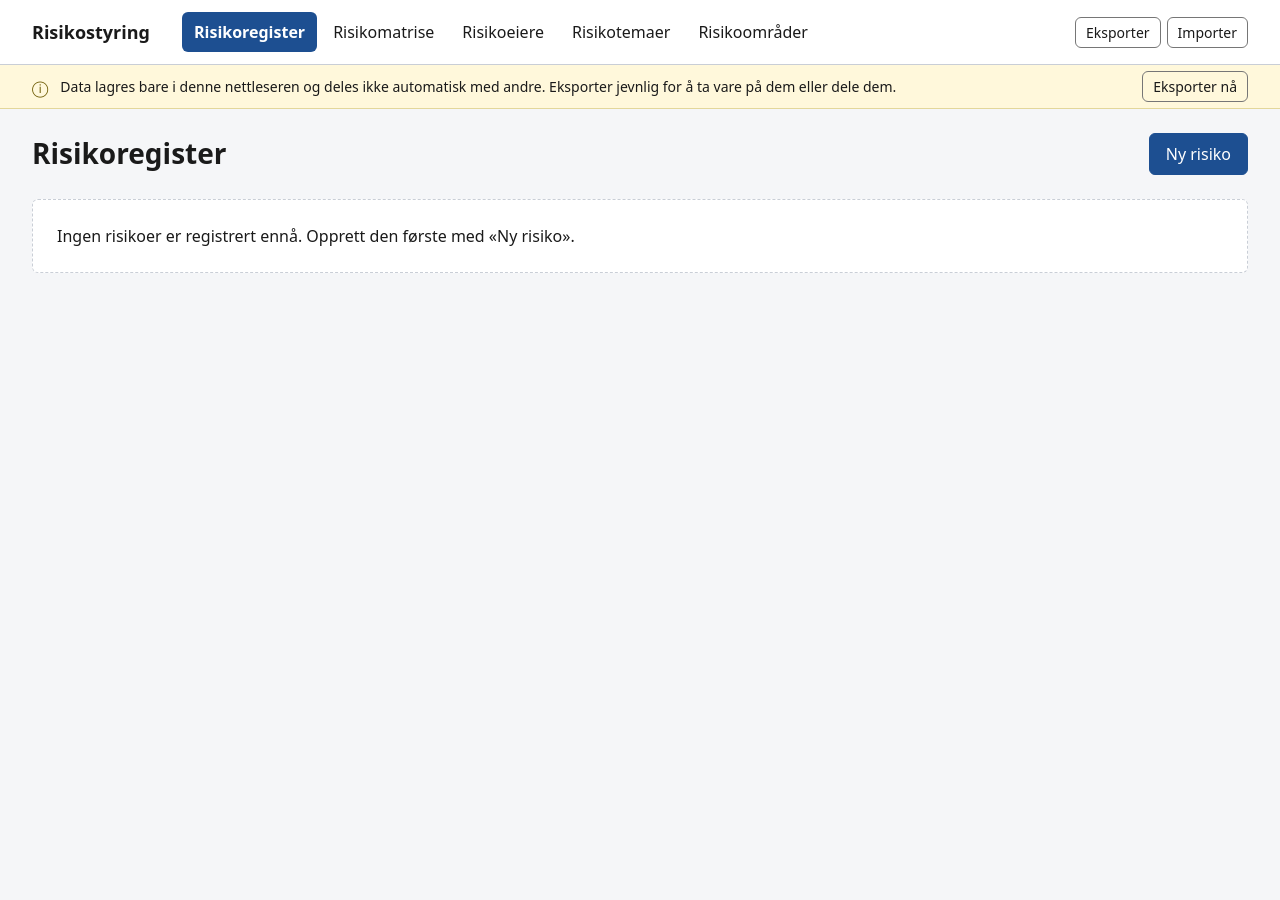
Scenario: risikoskjema (K1–K3) › bruker nivåtabellen, ikke bare scoren: 1 × 4 er Middels
The image size is (1280, 900).
expect the heading "Risikoregister" is shown: met, box [32,137,226,171]
Click the button "Ny risiko" at (1198, 154), box [1149,133,1248,175]
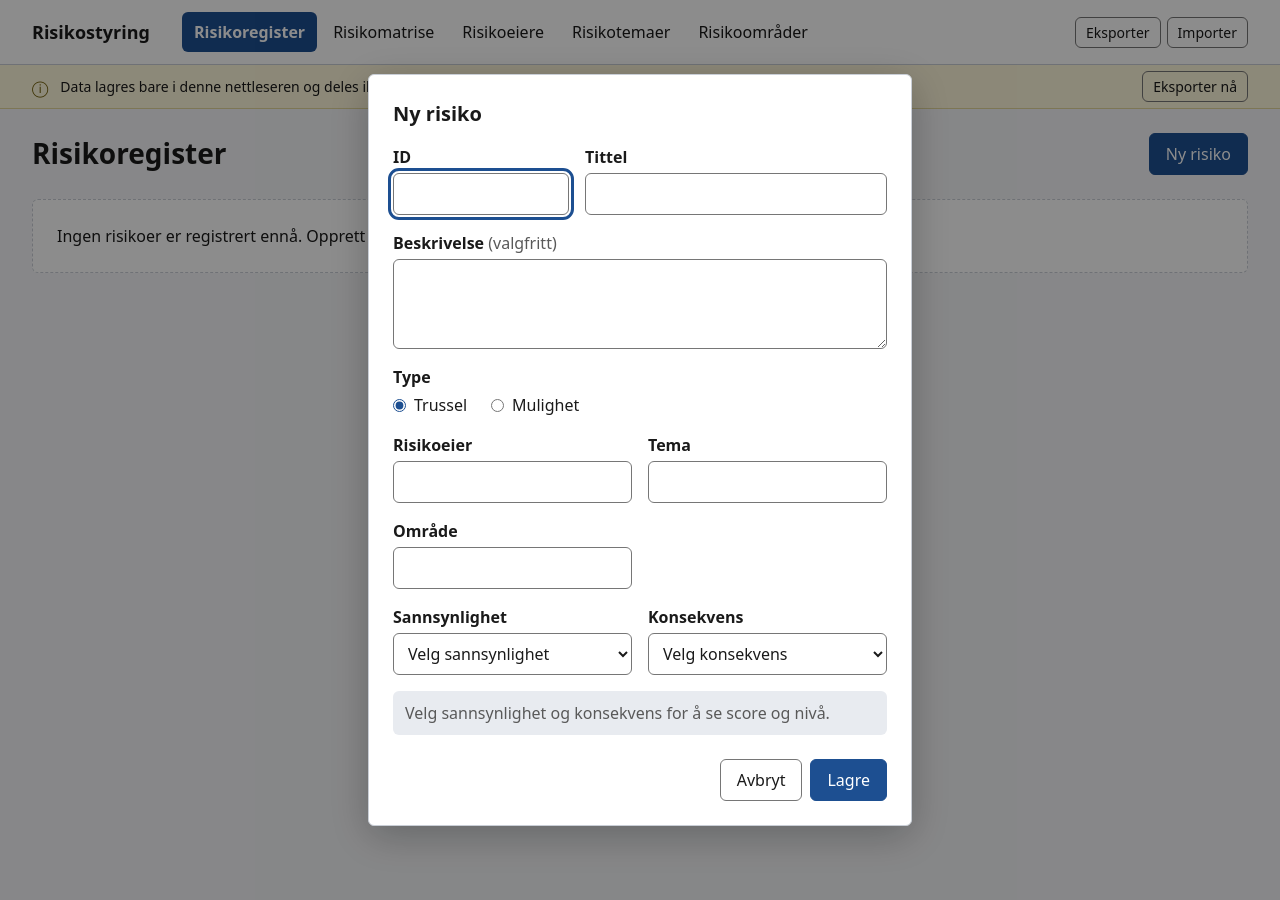
Select "1 – Svært lav" in the dropdown labelled "Sannsynlighet" at (512, 654), box [393,633,632,675]
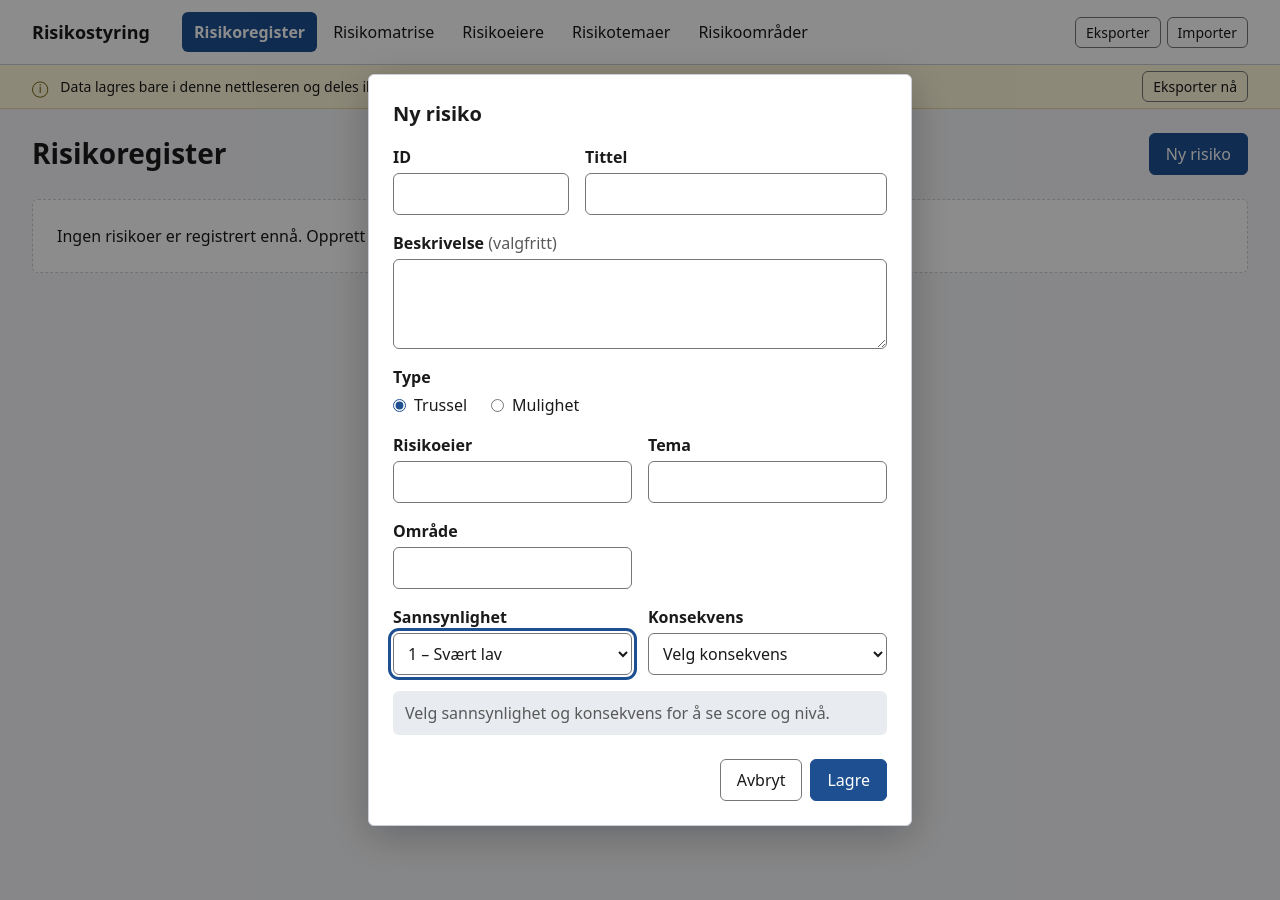
Select "4 – Alvorlig" in the dropdown labelled "Konsekvens" at (768, 654), box [648,633,887,675]
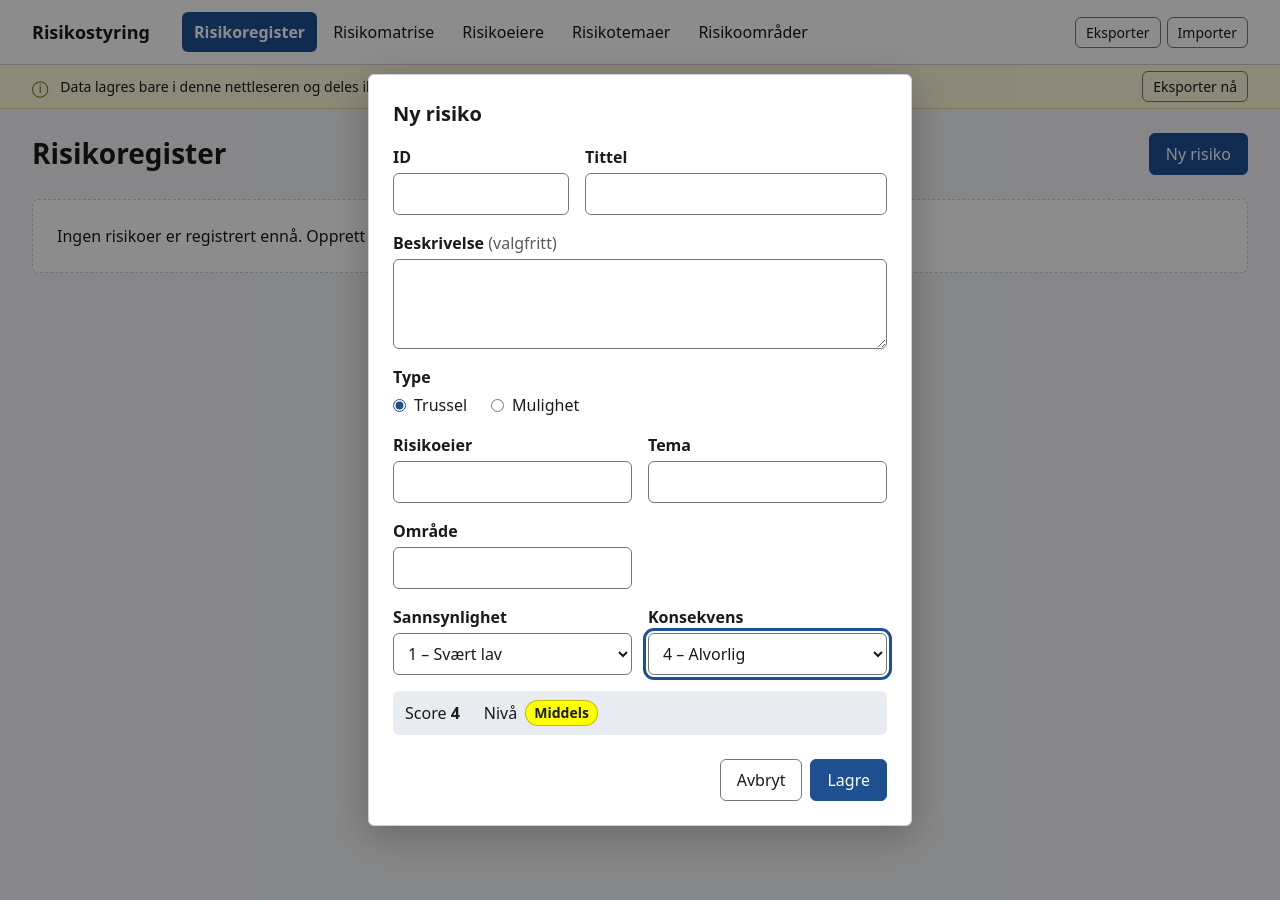
expect the text "Middels" is shown: met, box [525,700,598,726]
